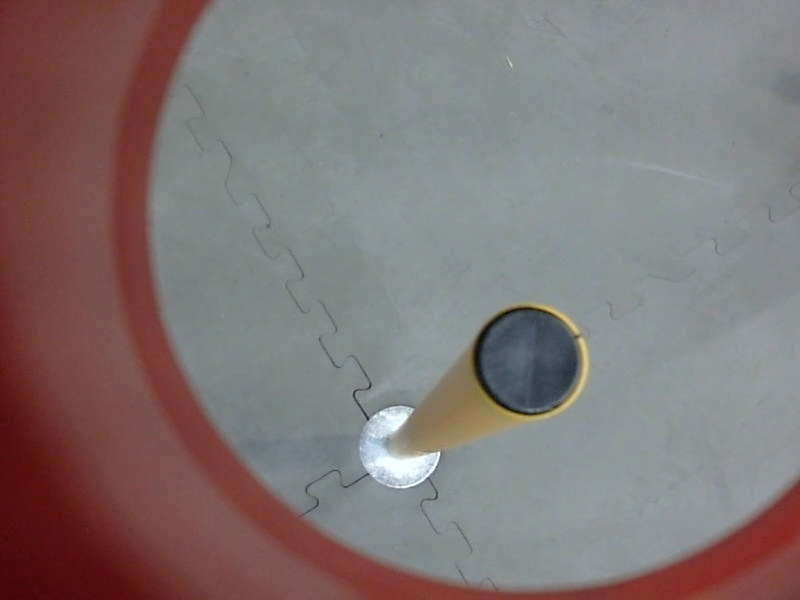tip: (465, 293, 595, 429)
